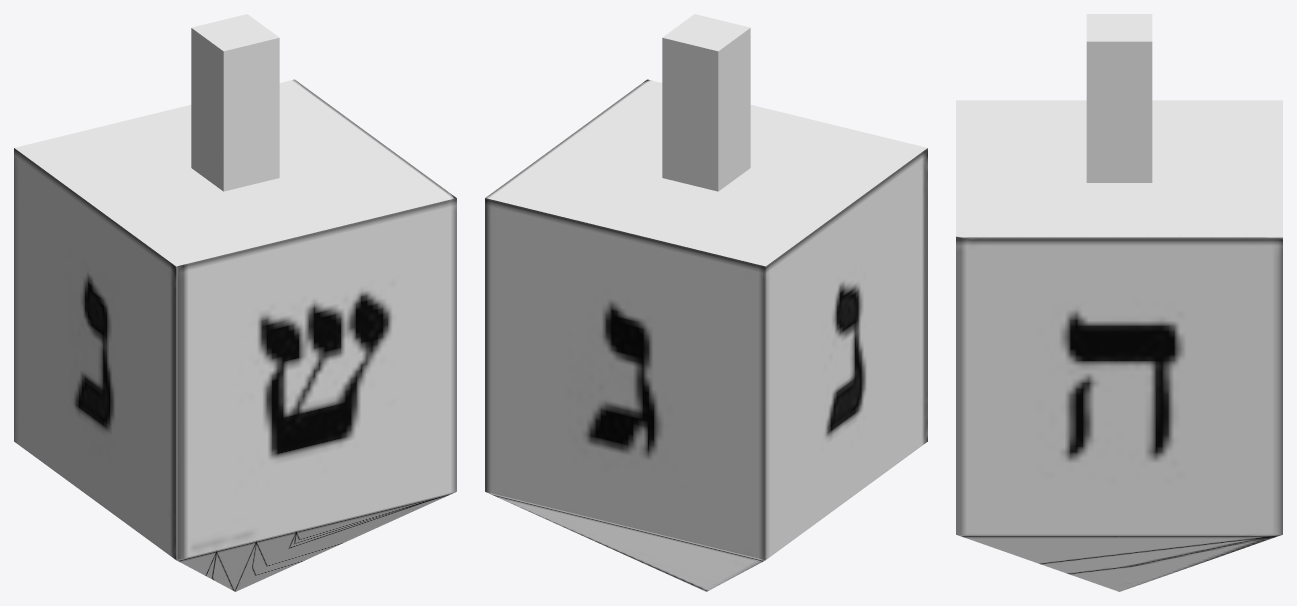
Rendered from dreydl.fbx.
The picture shows the model from 3 angles, left to right: view 1: azimuth 30°, elevation 25°; view 2: azimuth 150°, elevation 25°; view 3: azimuth 270°, elevation 25°; orthographic projection.
Parts seen in each view (by area): view 1: Cube; view 2: Cube; view 3: Cube.
Boxes of the visible parts, x1,y1,x2,y2 form: Cube: [14, 14, 456, 591]; Cube: [485, 14, 927, 591]; Cube: [956, 14, 1282, 591].
Bounding box in the file's own units: 200 × 381 × 200.
